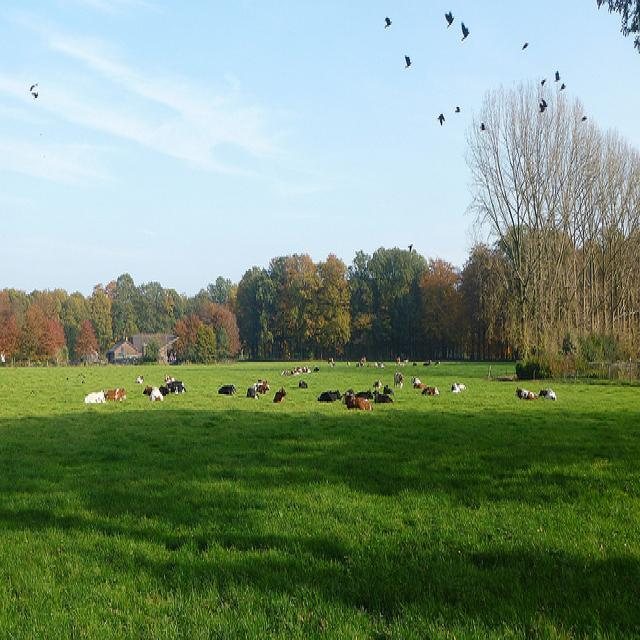cow: (134, 353, 555, 401), (341, 387, 372, 408), (141, 382, 162, 400), (316, 385, 341, 399), (82, 387, 105, 401), (104, 385, 125, 399), (371, 387, 392, 401), (271, 383, 285, 403), (166, 378, 185, 392), (450, 378, 466, 394), (252, 378, 268, 390), (216, 382, 235, 392), (245, 385, 258, 398), (297, 378, 307, 385)
